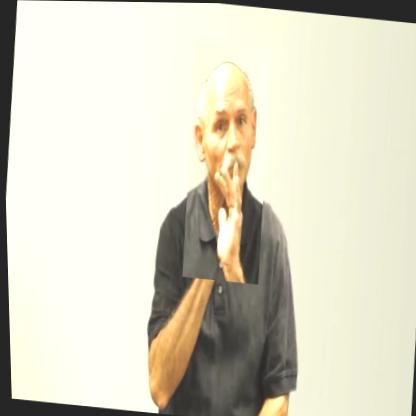Talk: (175, 41, 277, 284)
